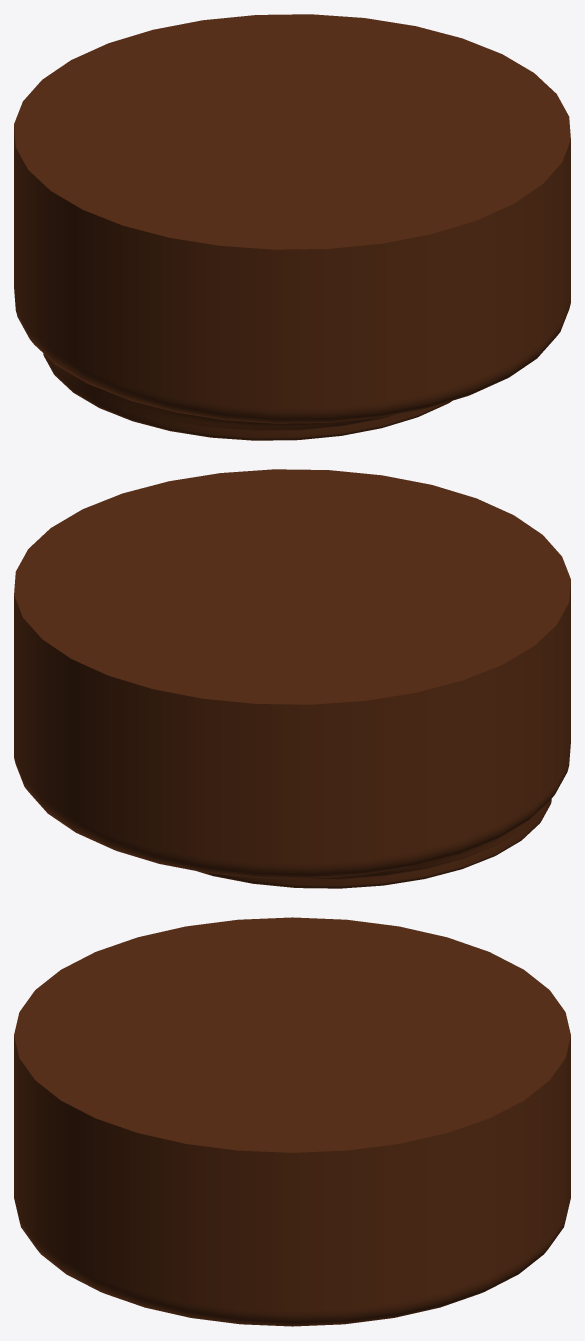
File: Moccamaster Coffee.fbx
3 renders of one model, top to bottom at view 1: azimuth 30°, elevation 25°; view 2: azimuth 150°, elevation 25°; view 3: azimuth 270°, elevation 25°, orthographic.
Parts seen in each view (by area): view 1: Moccamaster Jug.001; view 2: Moccamaster Jug.001; view 3: Moccamaster Jug.001.
Part boxes in pixels (box(x1,y1,x2,y2)): Moccamaster Jug.001: box(14, 14, 570, 440); Moccamaster Jug.001: box(14, 469, 570, 888); Moccamaster Jug.001: box(14, 917, 570, 1326).
Bounding box in the file's own units: 13.62 × 13.62 × 5.49.
